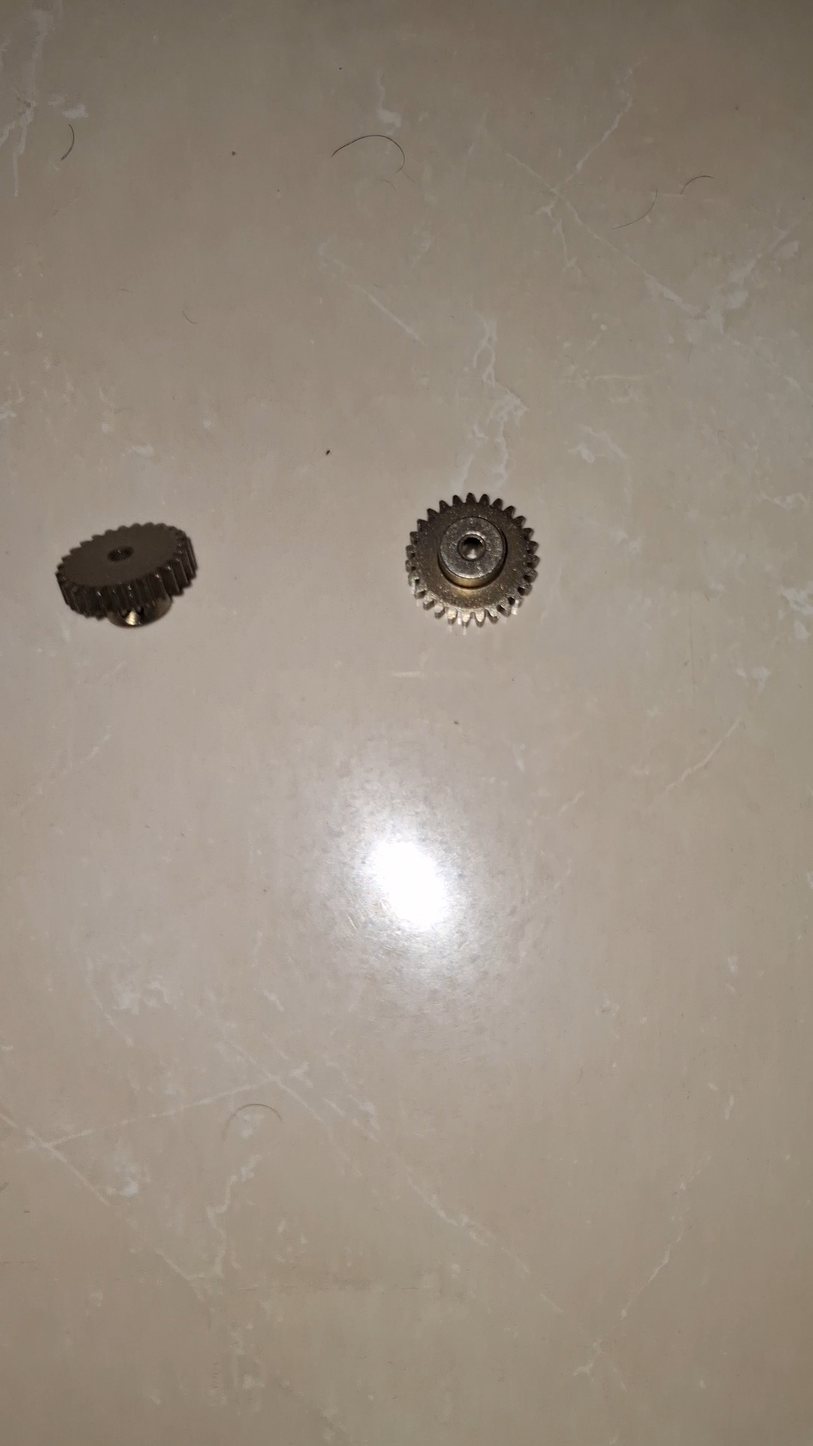spur gear: (406, 493, 537, 625), (56, 523, 196, 626)
